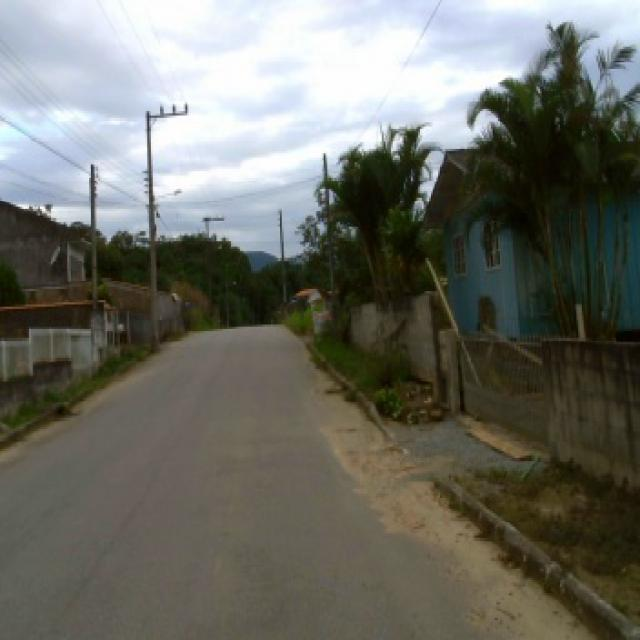Poth-hole: (52, 402, 80, 416)
